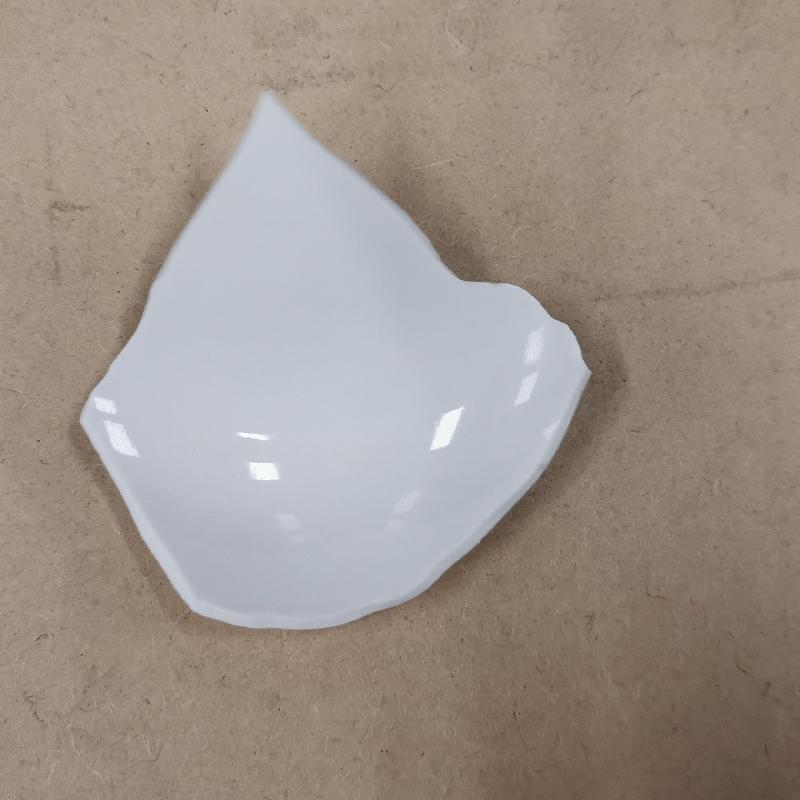ceram: (69, 81, 595, 636)
